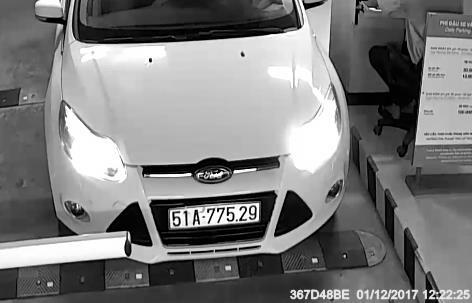License-plate: (167, 202, 267, 229)
